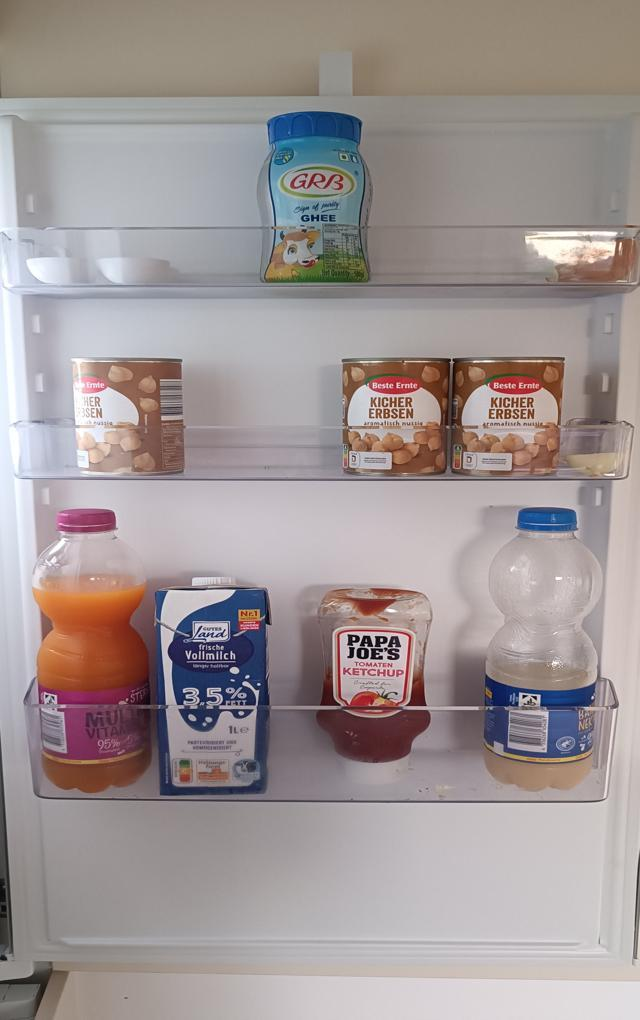bananajuice: (486, 504, 606, 786)
chickpeas: (342, 360, 452, 479), (72, 357, 184, 472), (455, 360, 564, 477)
ghee: (257, 108, 377, 289)
milk: (155, 577, 275, 794)
orangejuice: (32, 507, 151, 790)
tomatoketchup: (319, 585, 434, 781)
